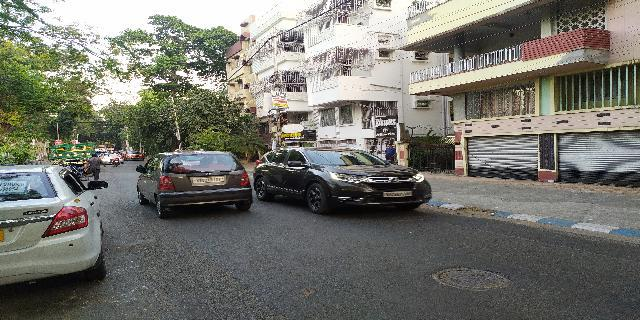Car: (252, 138, 433, 219), (3, 162, 110, 287), (132, 145, 253, 219)
